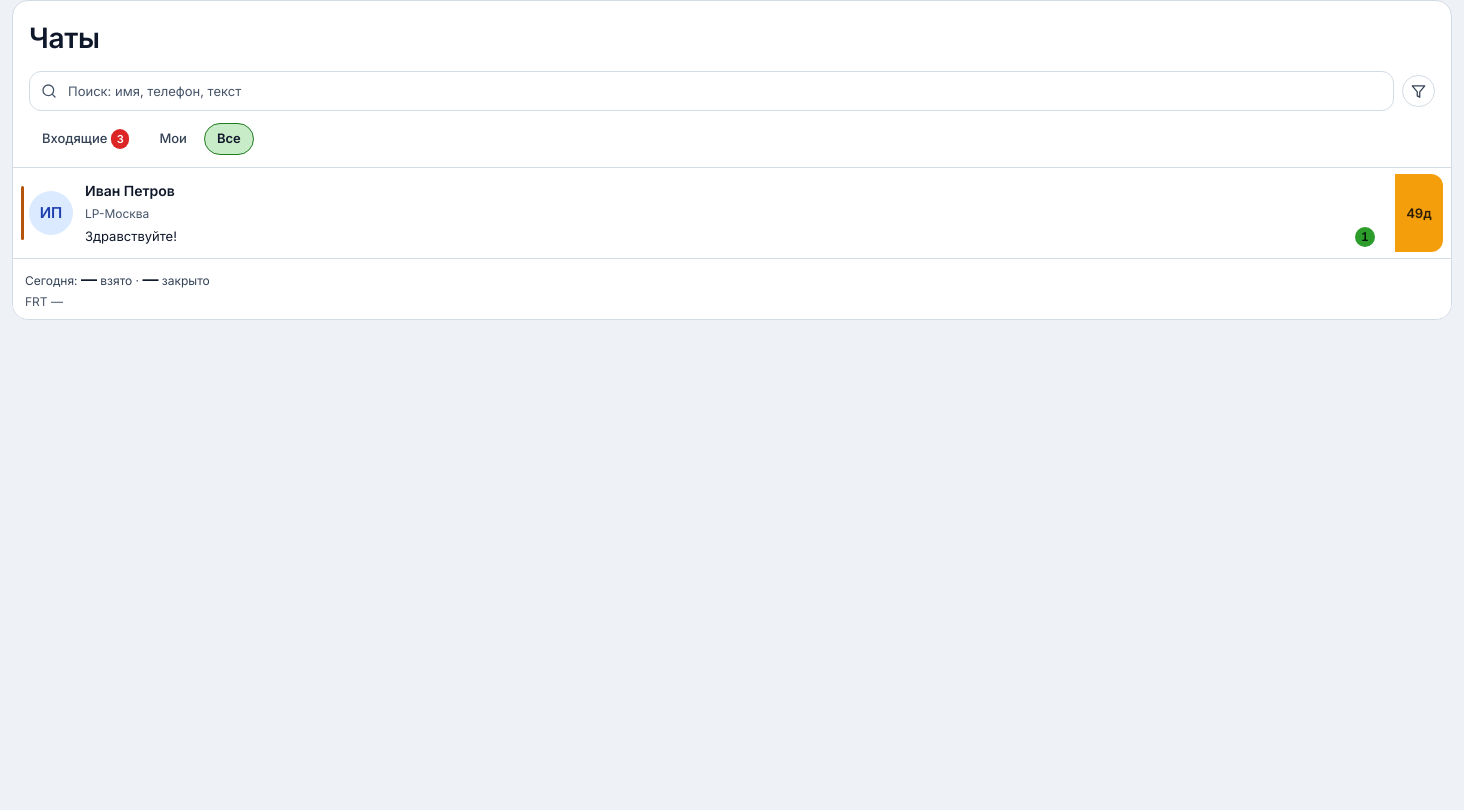
Test case: Вкладка «Входящие» › возвращённый в очередь диалог появляется снова — и звучит
The image size is (1464, 810).
Step 1. Click the tab "Входящие 3" → (86, 139), box [29, 123, 142, 155]
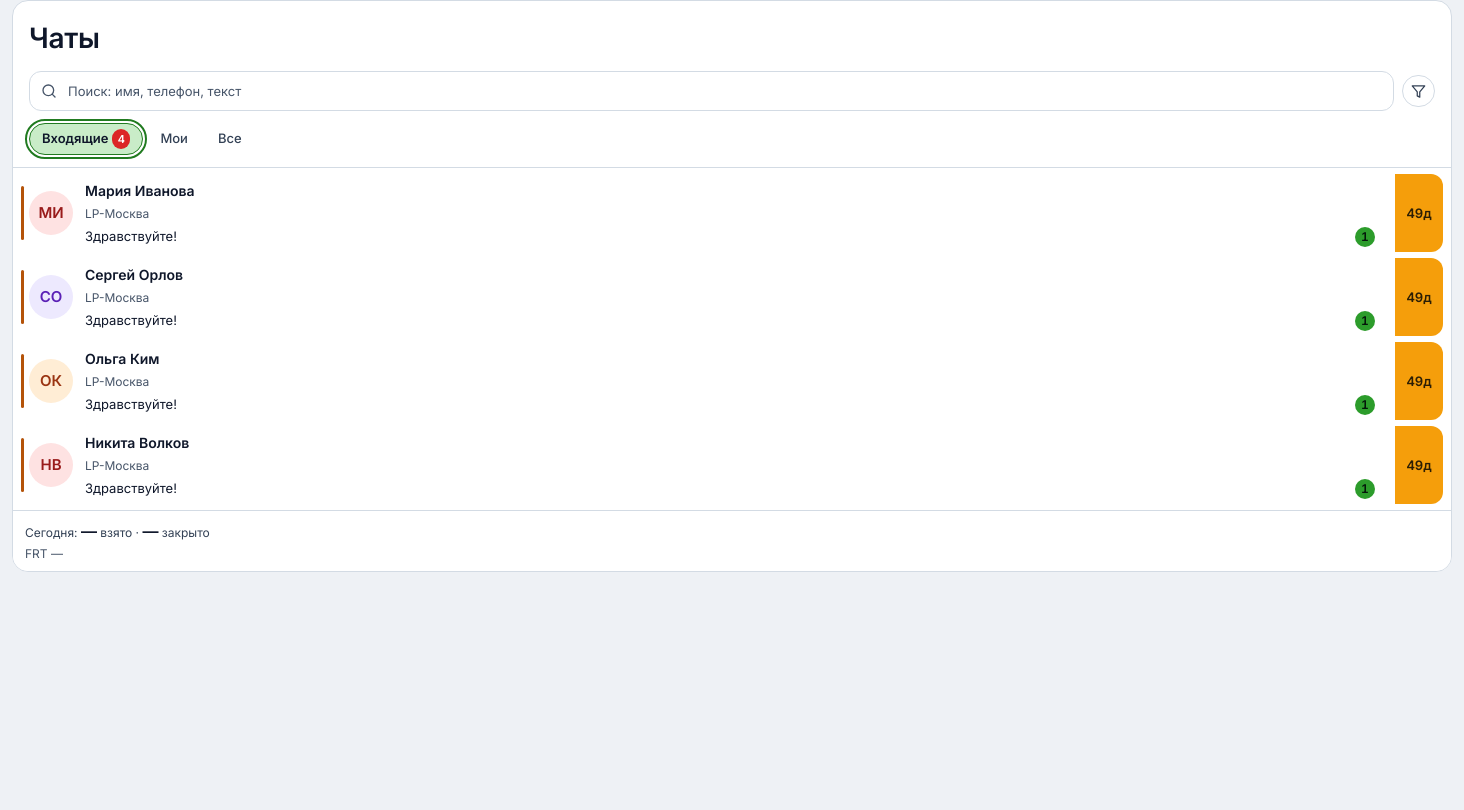
Check: the text "Мария Иванова" is shown, box [85, 182, 195, 198]
Check: the text "Никита Волков" is shown, box [85, 434, 189, 450]
Check: the tab with aria-label "Входящие, в очереди: 4" is shown, box [29, 123, 143, 155]
